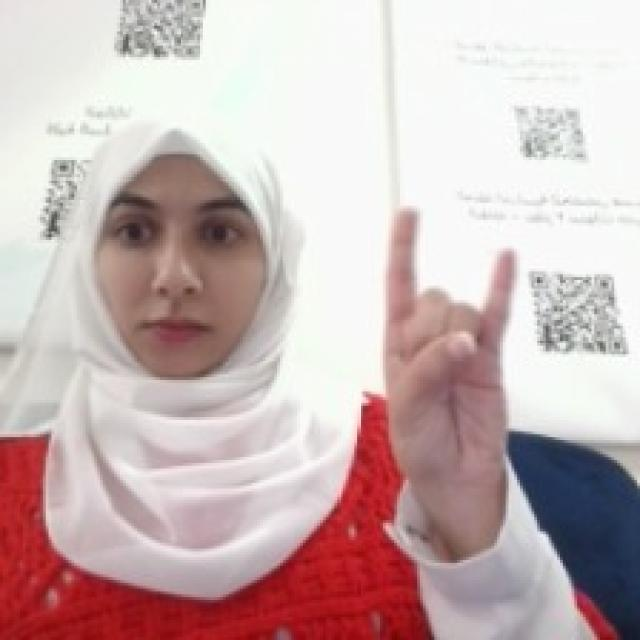No: (374, 194, 520, 483)
